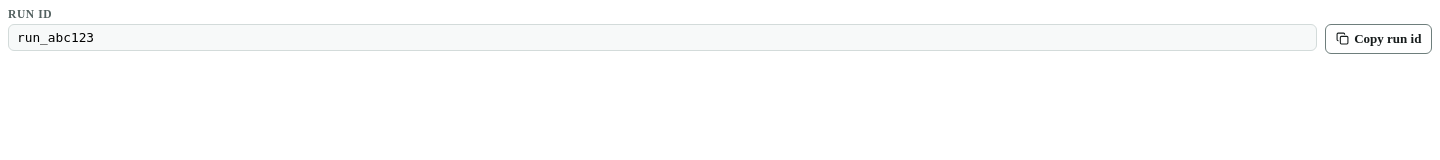
Scenario: CopyField shows label and value and copies the value
The image size is (1440, 160).
Expected: the text "Run ID" is shown, top-left (8, 8), bottom-right (52, 20)
Click the button "Copy run id". click: point(1378, 39)
box: top-left (1325, 24), bottom-right (1432, 54)
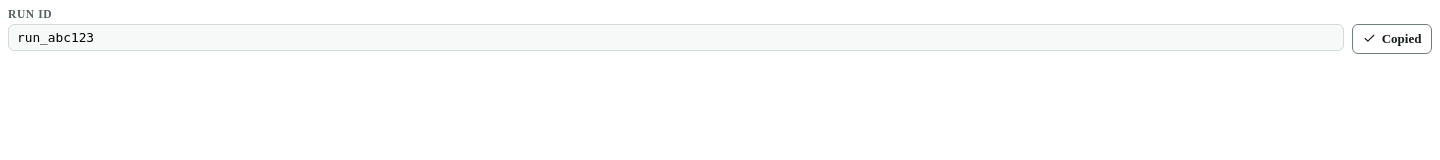
Expected: the text "Copied" is shown, top-left (1382, 31), bottom-right (1421, 47)
